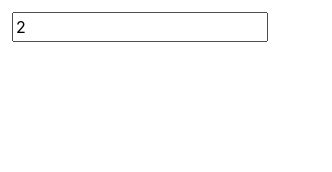
Test: 숫자가 아닌 글자는 입력되지 않는다
Replace the text in the field named "카멜피아 수량" with "3a-" at (140, 27), box [12,12,268,42]
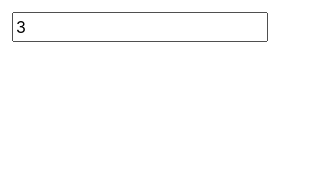
Check: the field named "카멜피아 수량" holds "3", box [12,12,268,42]
